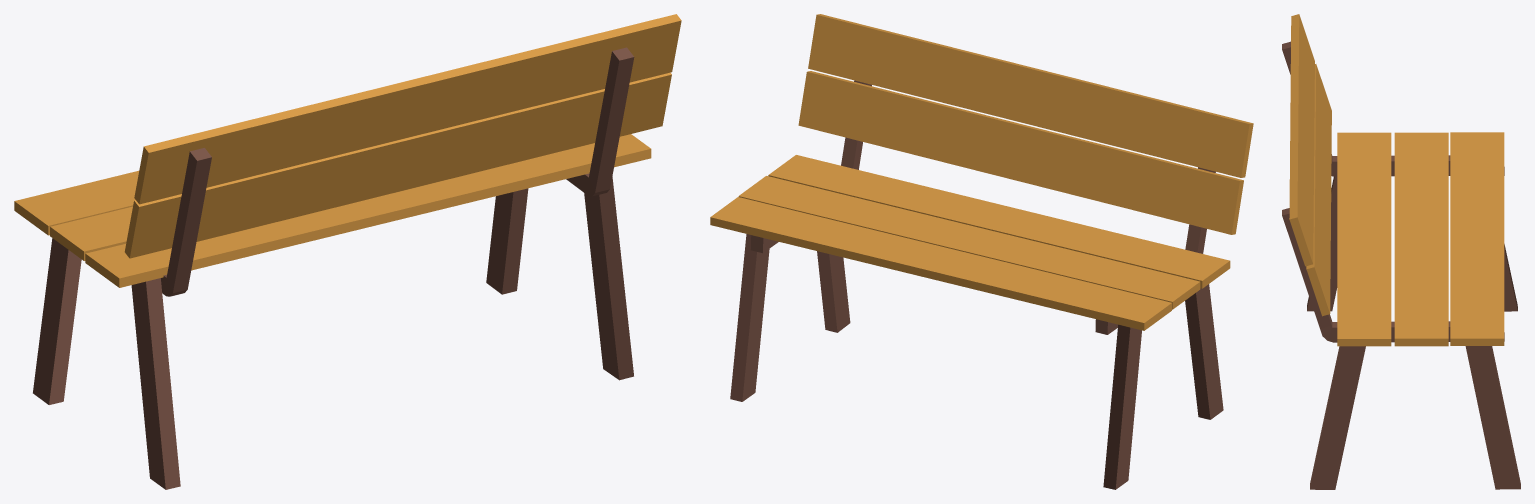
Rendered from bench.glb.
3 renders of one model, left to right at view 1: azimuth 30°, elevation 25°; view 2: azimuth 150°, elevation 25°; view 3: azimuth 270°, elevation 25°, orthographic. The views are drawn at different scales.
Visible parts, largest first — view 1: Node; view 2: Node; view 3: Node.
Part boxes in pixels (x1,y1,x2,y2): Node: [14, 14, 681, 489]; Node: [710, 14, 1253, 489]; Node: [1282, 14, 1520, 489].
Size of the model in its own units: 2.51 by 1.62 by 1.23.
Materials: 1 (1 with a texture image).
